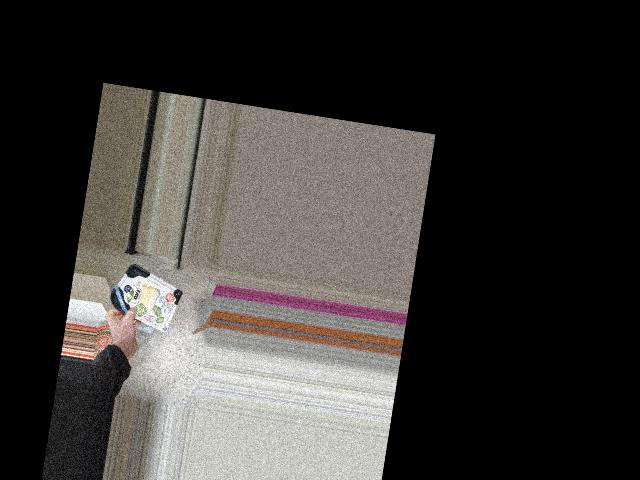cheese: (109, 271, 183, 327)
